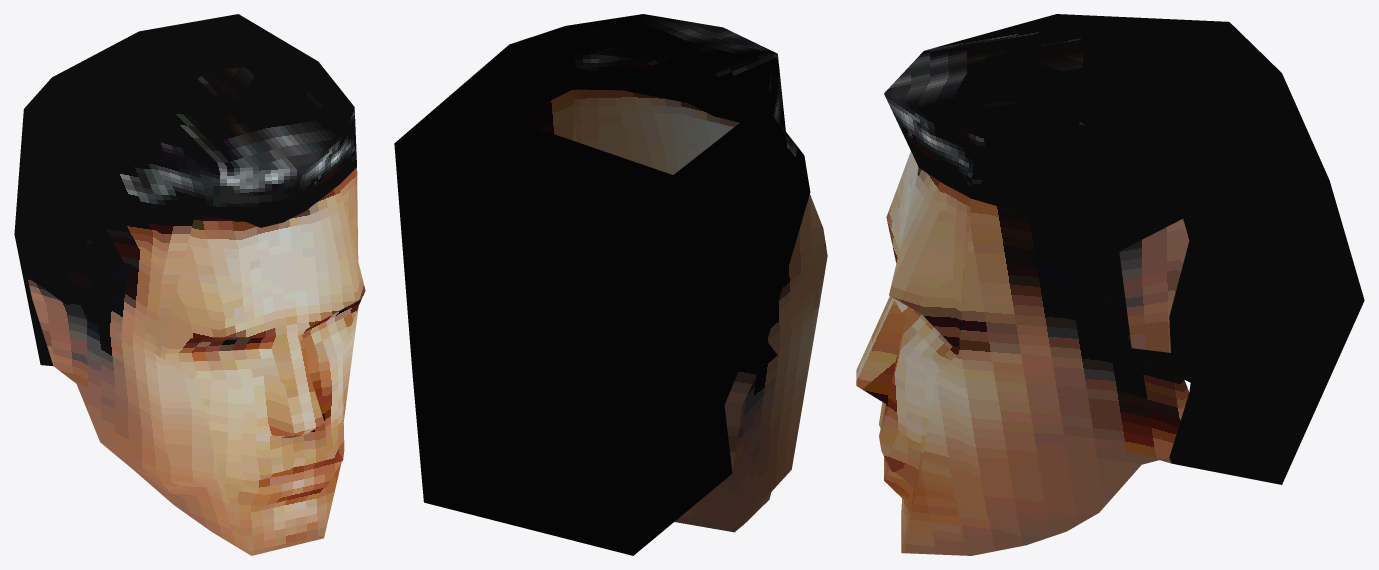
Rendered from CheadbrosnanZ.obj.
3 renders of one model, left to right at view 1: azimuth 30°, elevation 25°; view 2: azimuth 150°, elevation 25°; view 3: azimuth 270°, elevation 25°, orthographic. The views are drawn at different scales.
Bounding box in the file's own units: 160 × 216 × 203.
6 materials, 6 textured.
